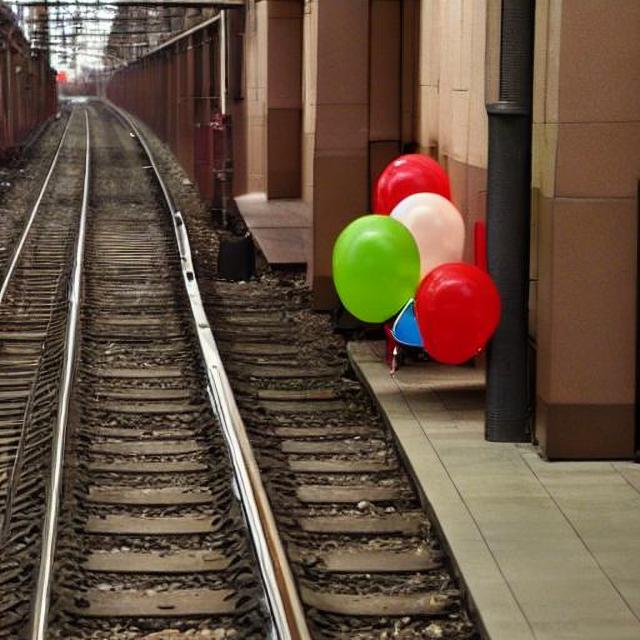balloon: (324, 143, 510, 371)
